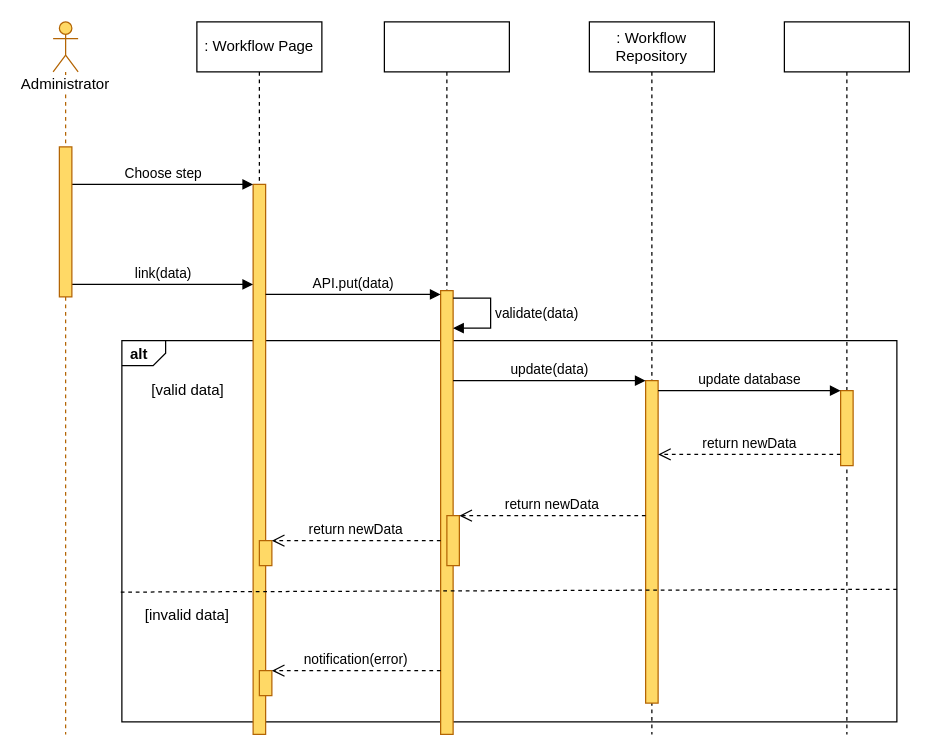
Image size: 931x756. Some labels were removed from this diagram. The shapes that lost their labels are listed below. From the top down, each one's box as (x1, y1, x2, y2) in pixels, then its label:
(383, 21, 509, 734): : Workflow Controller
(783, 21, 909, 734): : Database
